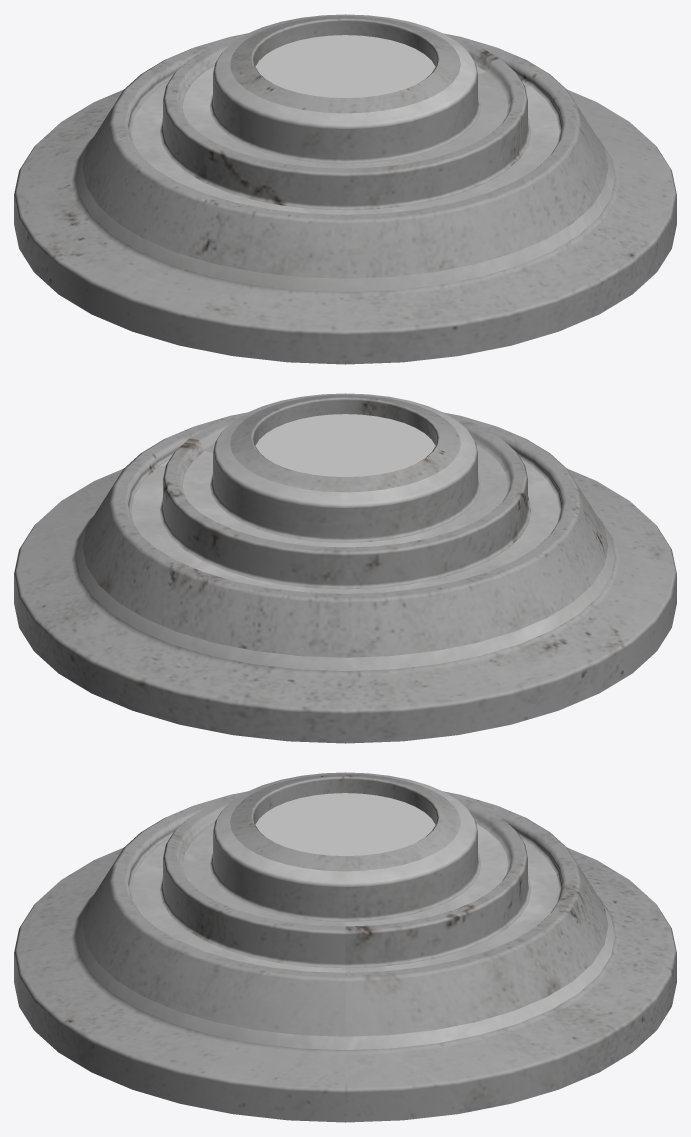
File: SM_Hologram_Projector_01.fbx
The picture shows the model from 3 angles, top to bottom: view 1: azimuth 30°, elevation 25°; view 2: azimuth 150°, elevation 25°; view 3: azimuth 270°, elevation 25°; orthographic projection.
Visible parts, largest first — view 1: SM_Hologram_Projector_01_LOD0; view 2: SM_Hologram_Projector_01_LOD0; view 3: SM_Hologram_Projector_01_LOD0.
Part boxes in pixels (x1,y1,x2,y2): SM_Hologram_Projector_01_LOD0: [14, 14, 676, 364]; SM_Hologram_Projector_01_LOD0: [14, 393, 676, 743]; SM_Hologram_Projector_01_LOD0: [14, 772, 676, 1122].
Size of the model in its own units: 41.07 by 41.07 by 11.37.
Materials: 3 (2 with a texture image).
